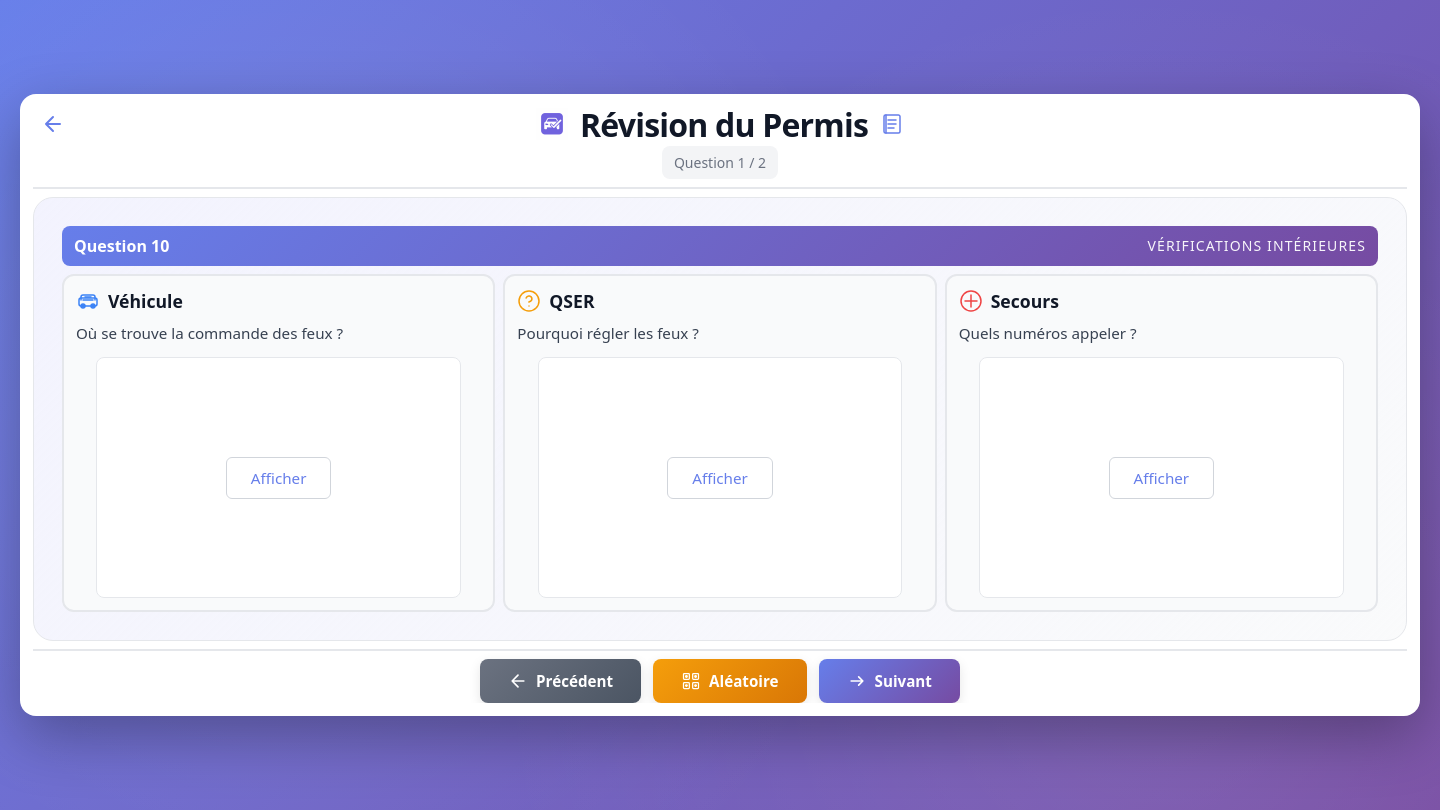
Scenario: Revision page › passe à la question suivante et masque les réponses
Click the button "Afficher" below "Où se trouve la commande des feux ?".
click(279, 478)  # box [226,457,332,499]
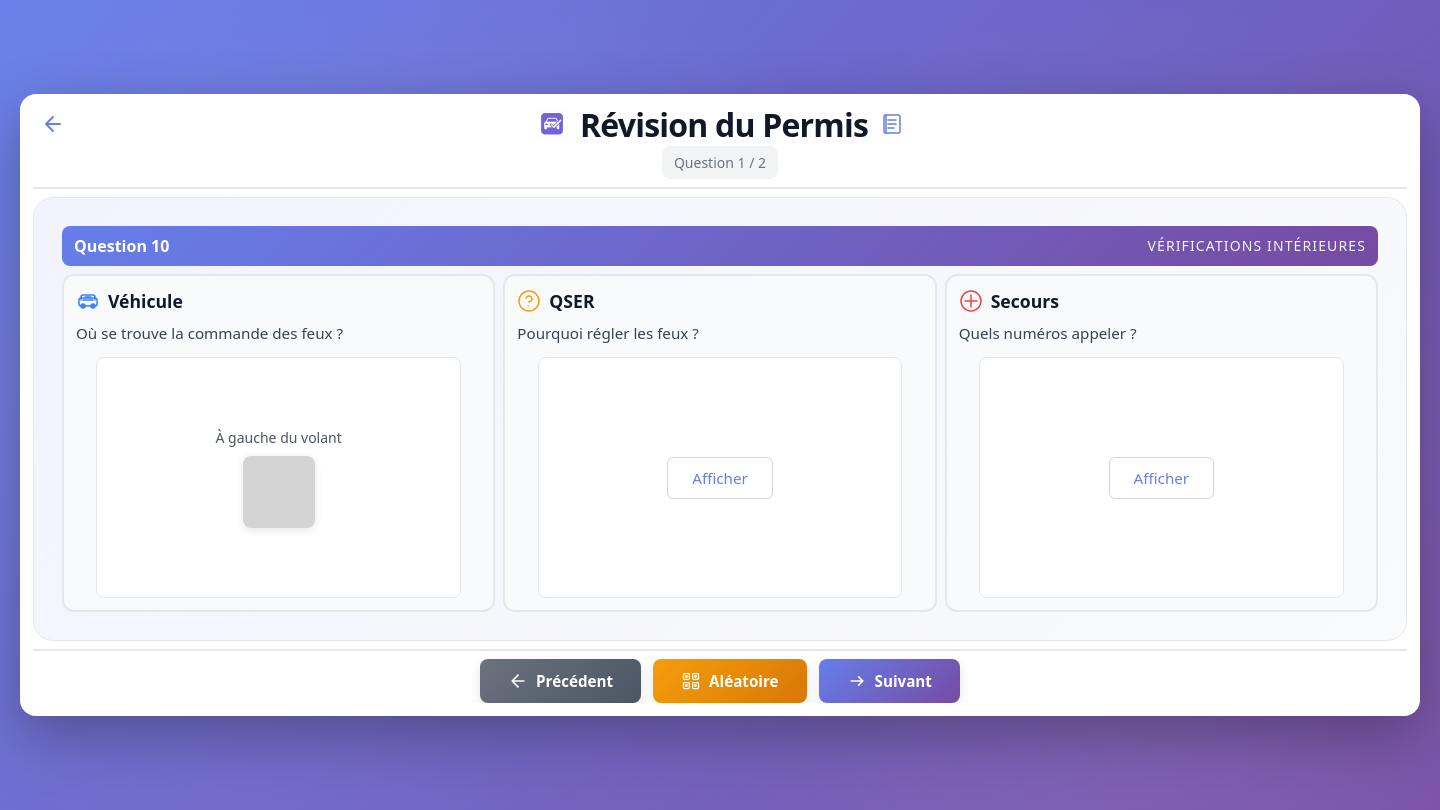
Click the button named "Question suivante".
click(889, 681)  # box [819,659,960,703]
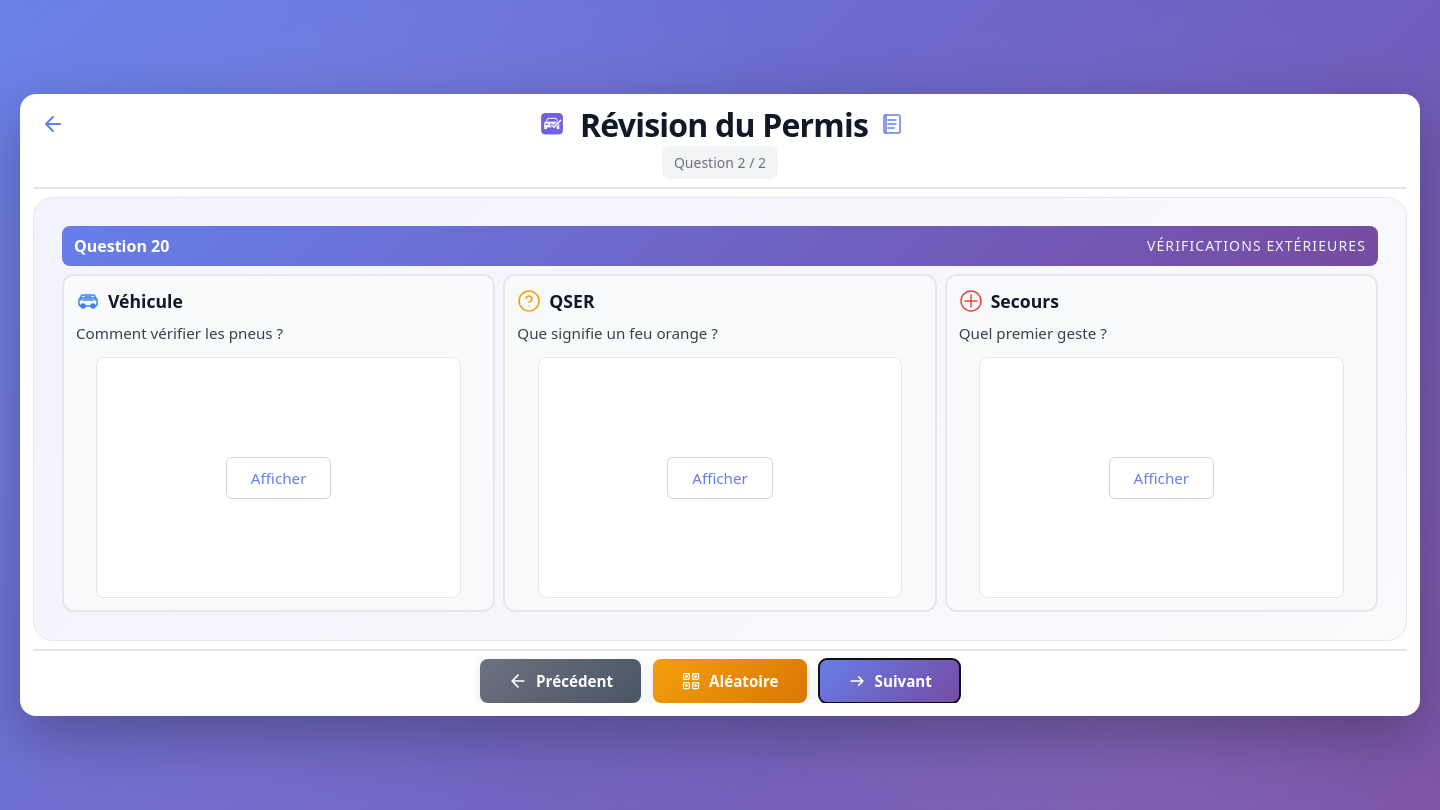
Expected: the text "Question 2 / 2" is shown, [662,146,778,179]
Expected: the text "Question 20" is shown, [74,234,169,258]
Expected: the text "Comment vérifier les pneus ?" is shown, [76,323,283,343]
